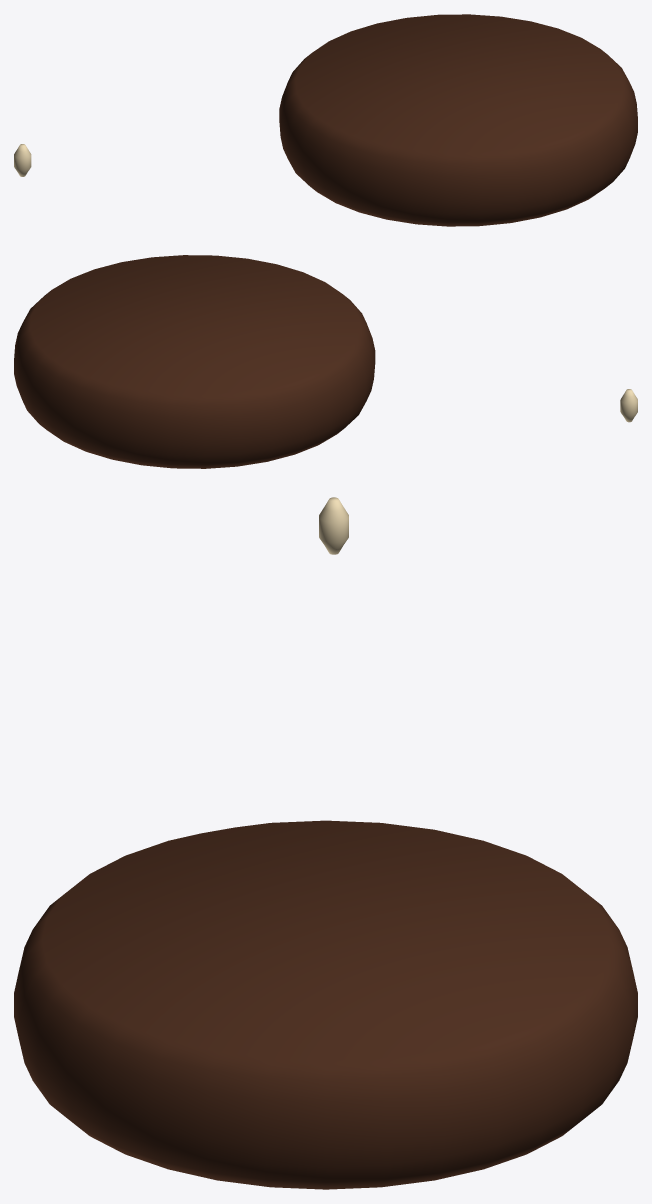
Rendered from carne.glb.
3 renders of one model, top to bottom at view 1: azimuth 30°, elevation 25°; view 2: azimuth 150°, elevation 25°; view 3: azimuth 270°, elevation 25°, orthographic. The views are drawn at different scales.
Parts seen in each view (by area): view 1: CARNE, SEMILLA; view 2: CARNE, SEMILLA; view 3: CARNE, SEMILLA.
Boxes of the visible parts, <box> form: CARNE: <box>279,14,637,226</box>; SEMILLA: <box>14,144,31,176</box>; CARNE: <box>14,255,375,468</box>; SEMILLA: <box>620,389,637,422</box>; CARNE: <box>14,820,637,1189</box>; SEMILLA: <box>319,497,348,554</box>.
Size of the model in its own units: 11.85 by 2.21 by 6.18.
